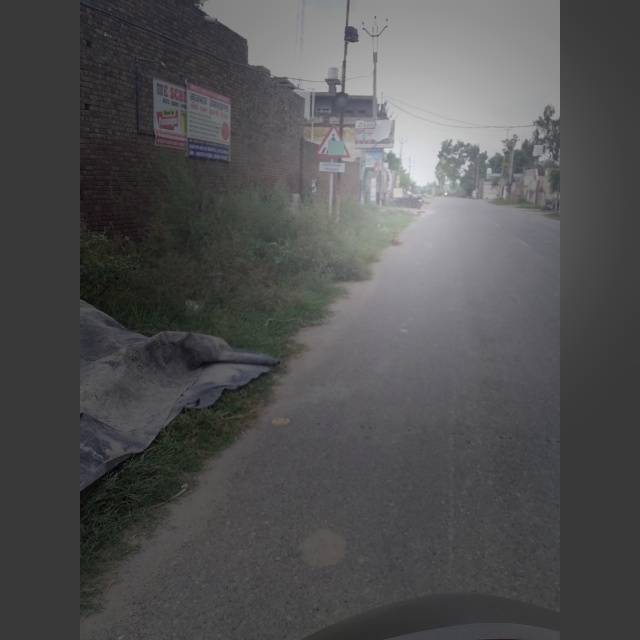Pedestrian_Crossing: (316, 126, 348, 164)
